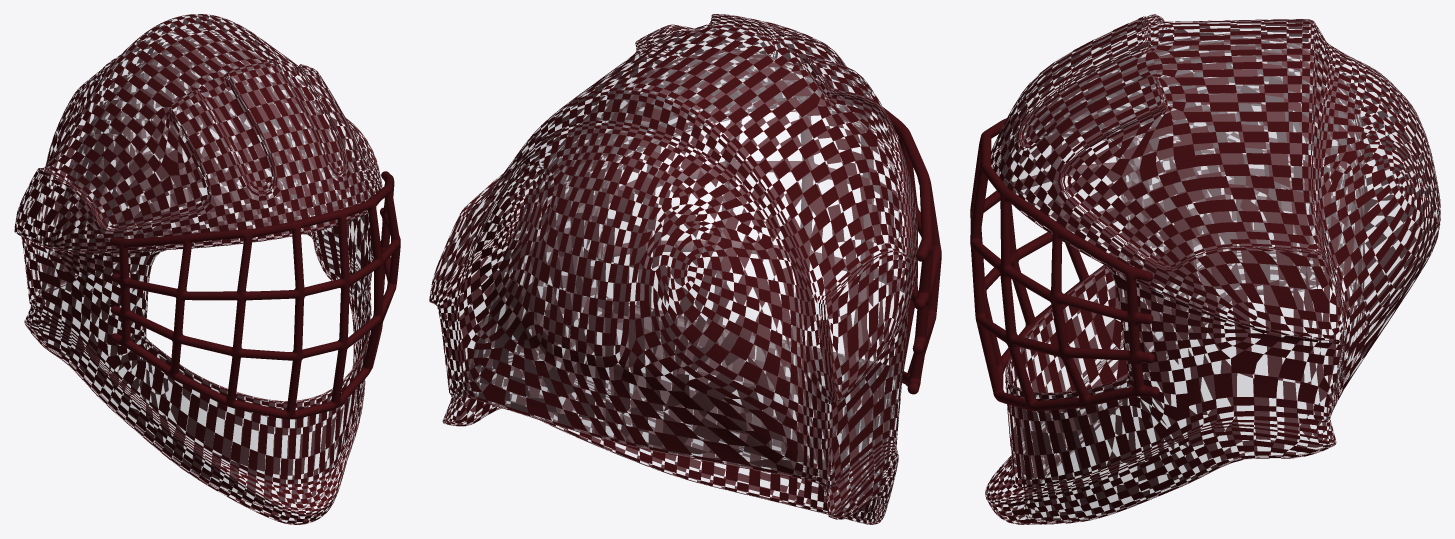
File: mask.glb
3 renders of one model, left to right at view 1: azimuth 30°, elevation 25°; view 2: azimuth 150°, elevation 25°; view 3: azimuth 270°, elevation 25°, orthographic. The views are drawn at different scales.
Parts seen in each view (by area): view 1: mask; view 2: mask; view 3: mask.
Part boxes in pixels (box(x1,y1,x2,y2)): mask: box(14, 14, 400, 524); mask: box(429, 14, 941, 524); mask: box(970, 14, 1440, 524).
Bounding box in the file's own units: 27.07 × 34.68 × 30.14.
